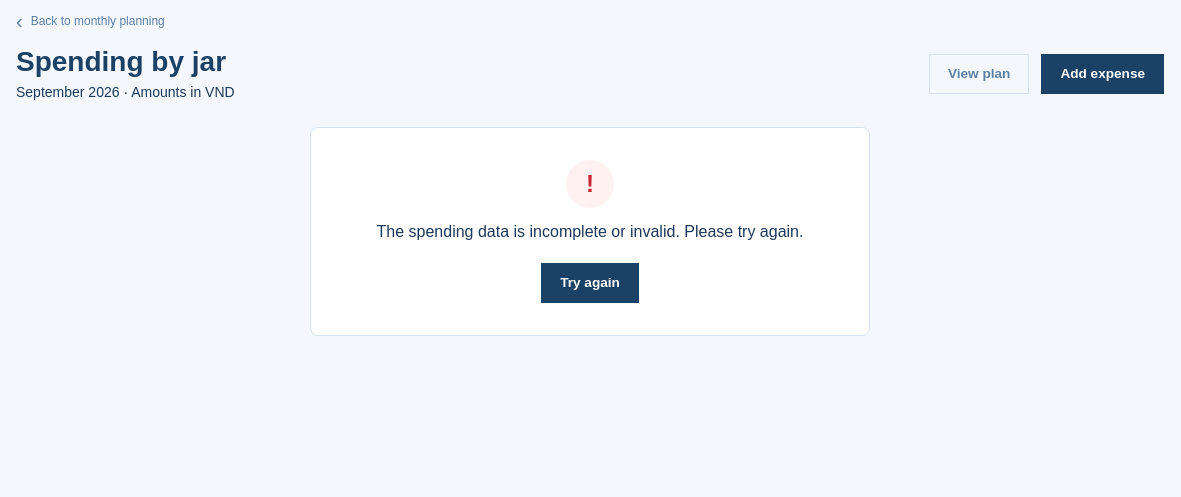
Test: SpendingByJarPageComponent › malformed 200 responses › retries a malformed response and renders the corrected rows
The image size is (1181, 497).
Click the button "Try again" at {"x": 590, "y": 283}, box [541,263,639,303]
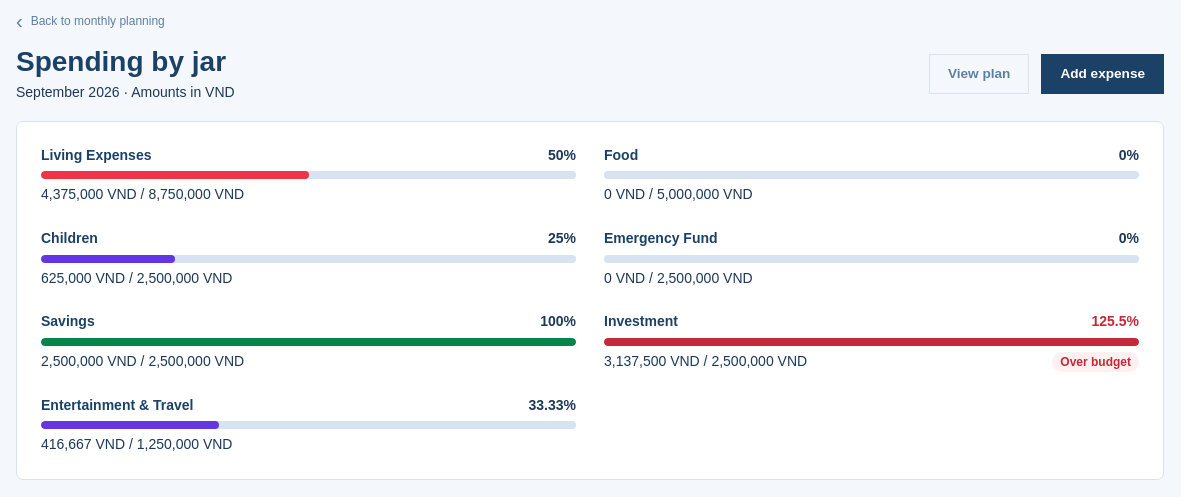
Check: the text "The spending data is incomplete or invalid. Please try again." is gone
